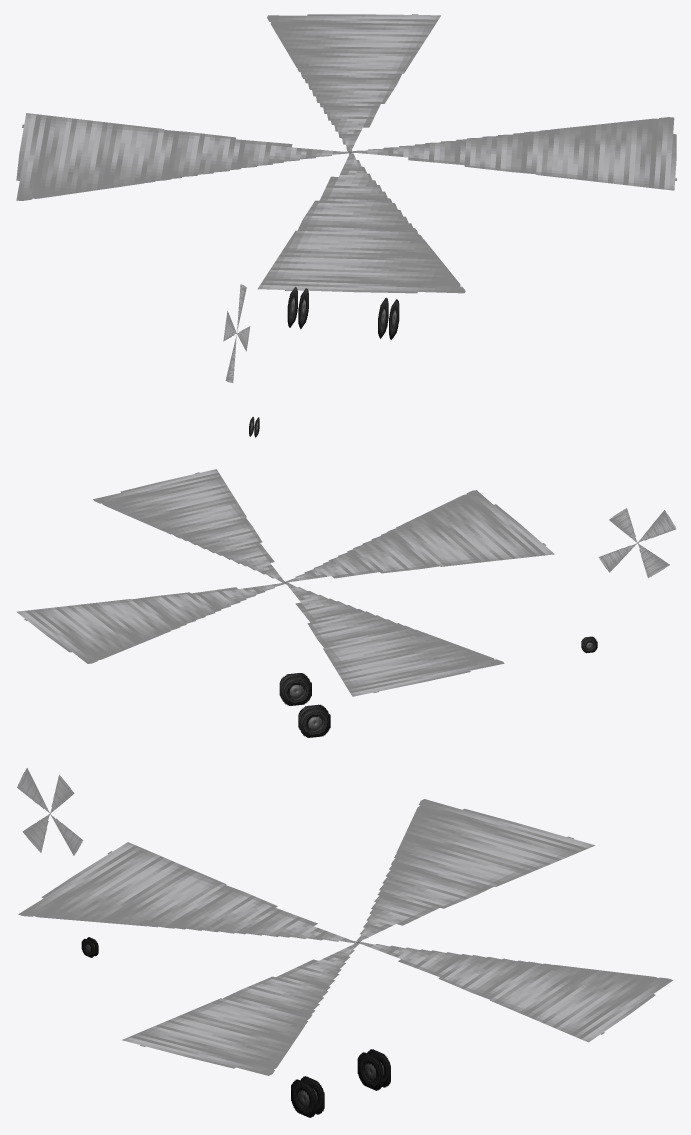
The model's file is helicopter_secondary.glb.
The picture shows the model from 3 angles, top to bottom: view 1: azimuth 30°, elevation 25°; view 2: azimuth 150°, elevation 25°; view 3: azimuth 270°, elevation 25°; orthographic projection. The views are drawn at different scales.
Visible parts, largest first — view 1: Object; view 2: Object; view 3: Object.
Part boxes in pixels (left/top/right/bottom): Object: left=16, top=14, right=676, bottom=437; Object: left=17, top=469, right=675, bottom=737; Object: left=17, top=768, right=672, bottom=1117.
Bounding box in the file's own units: 12.39 × 4.29 × 12.38.
2 materials, 2 textured.
